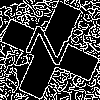Z: (25, 25, 80, 71)
